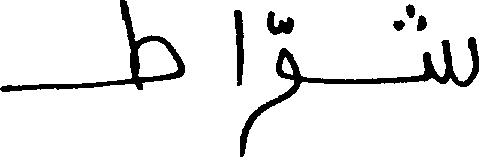ا: (231, 8, 245, 89)
ش: (391, 2, 477, 87)
ط: (0, 0, 186, 93)
و: (244, 9, 301, 154)
